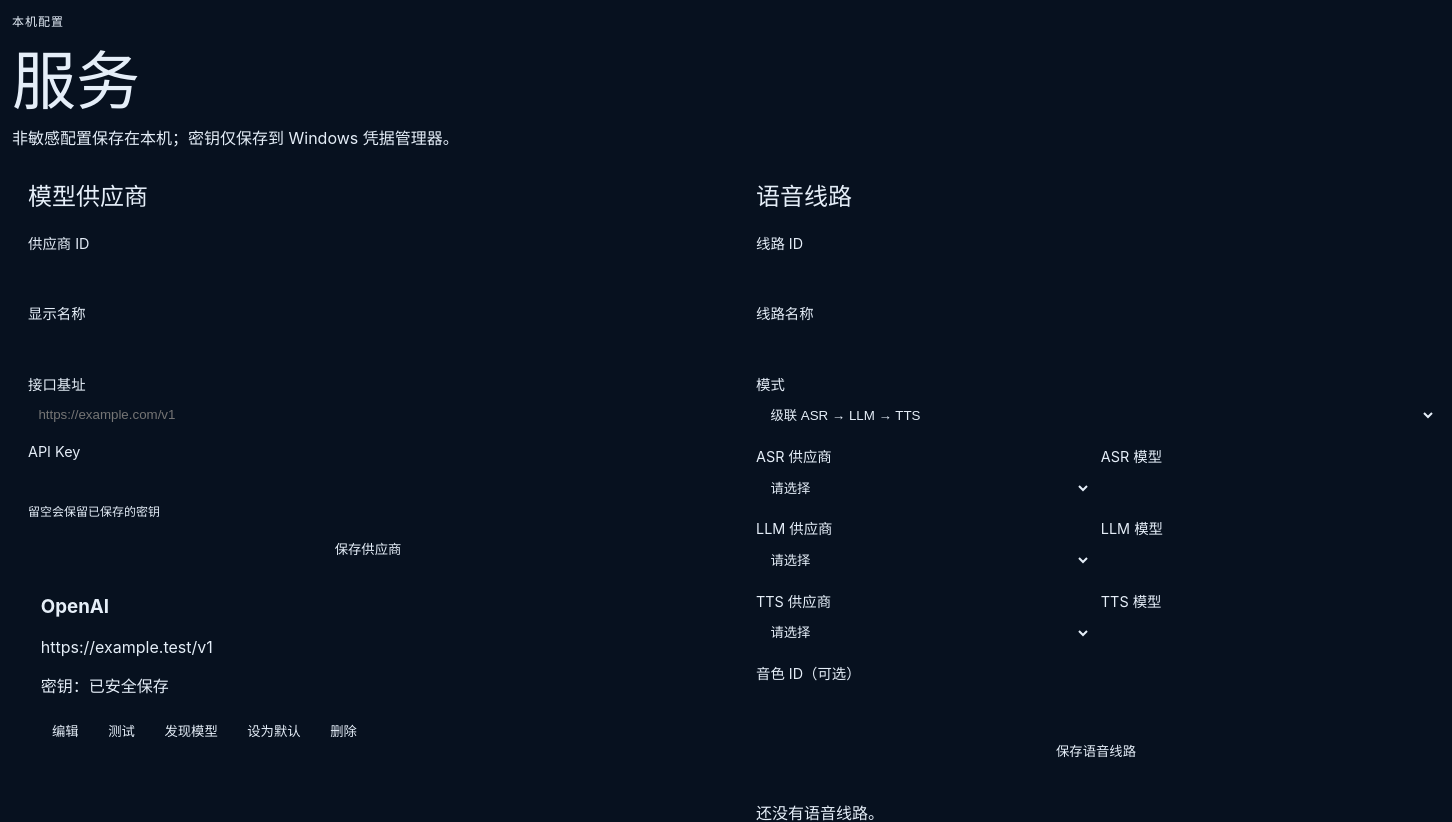
Test: ServicesPage › loads an existing provider into the editor without exposing its key
Click the button with aria-label "编辑 OpenAI": (65, 730) [41,713,90,748]
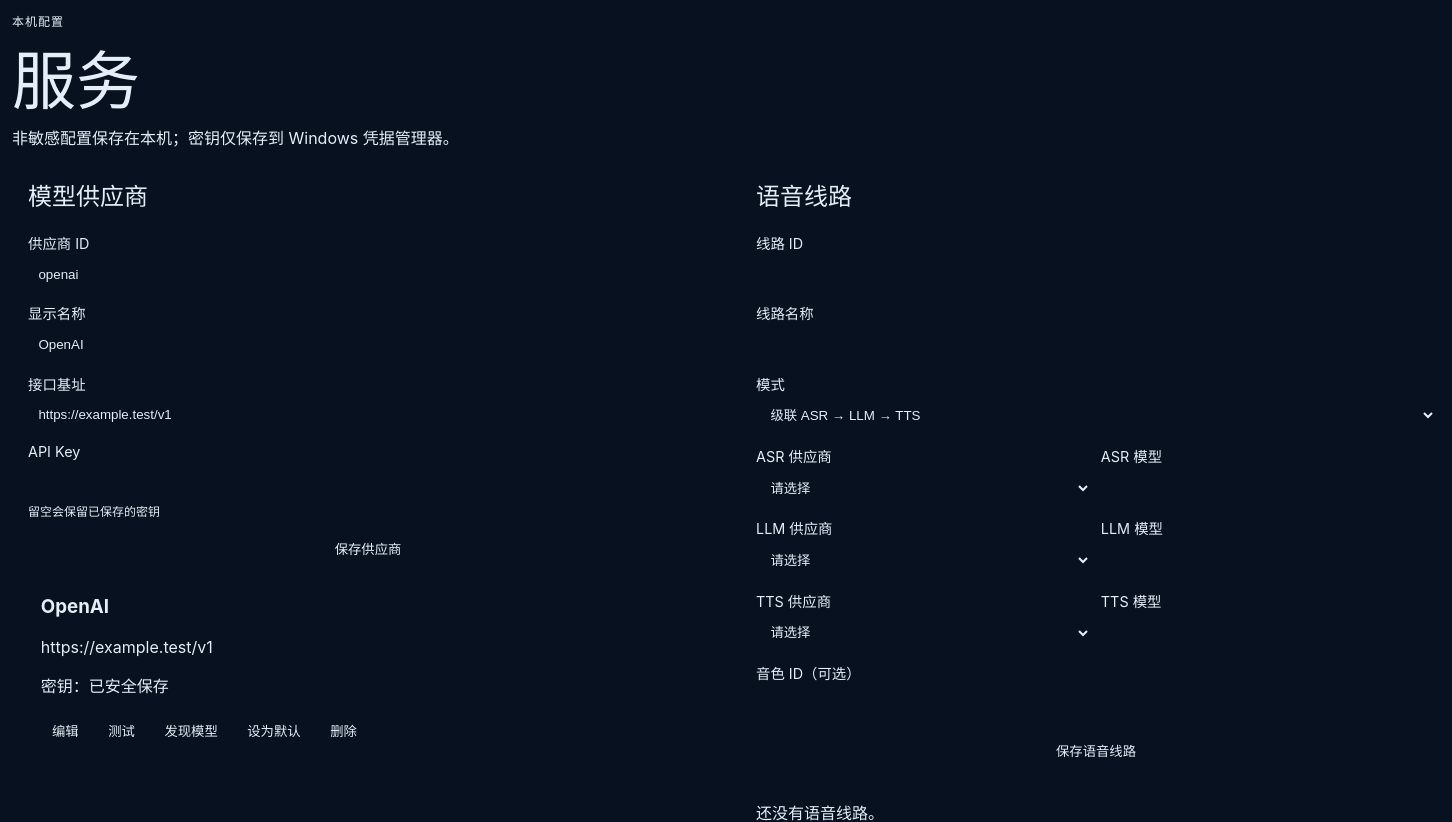
Expected: the password field labelled "API Key 留空会保留已保存的密钥" is empty, [28,465,708,498]
Expected: the field labelled "供应商 ID" holds "openai", [28,258,708,290]
